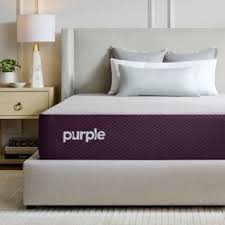bed-matress: (35, 87, 225, 161)
